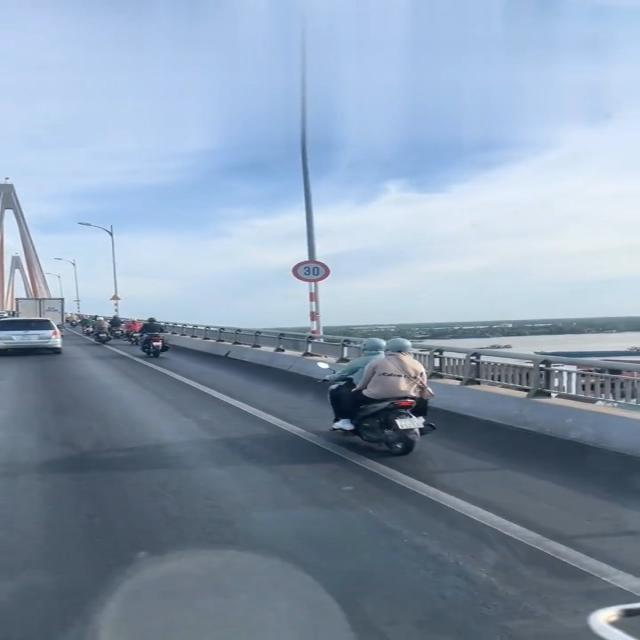127-toc-do-toi-da-30: (290, 261, 330, 283)
